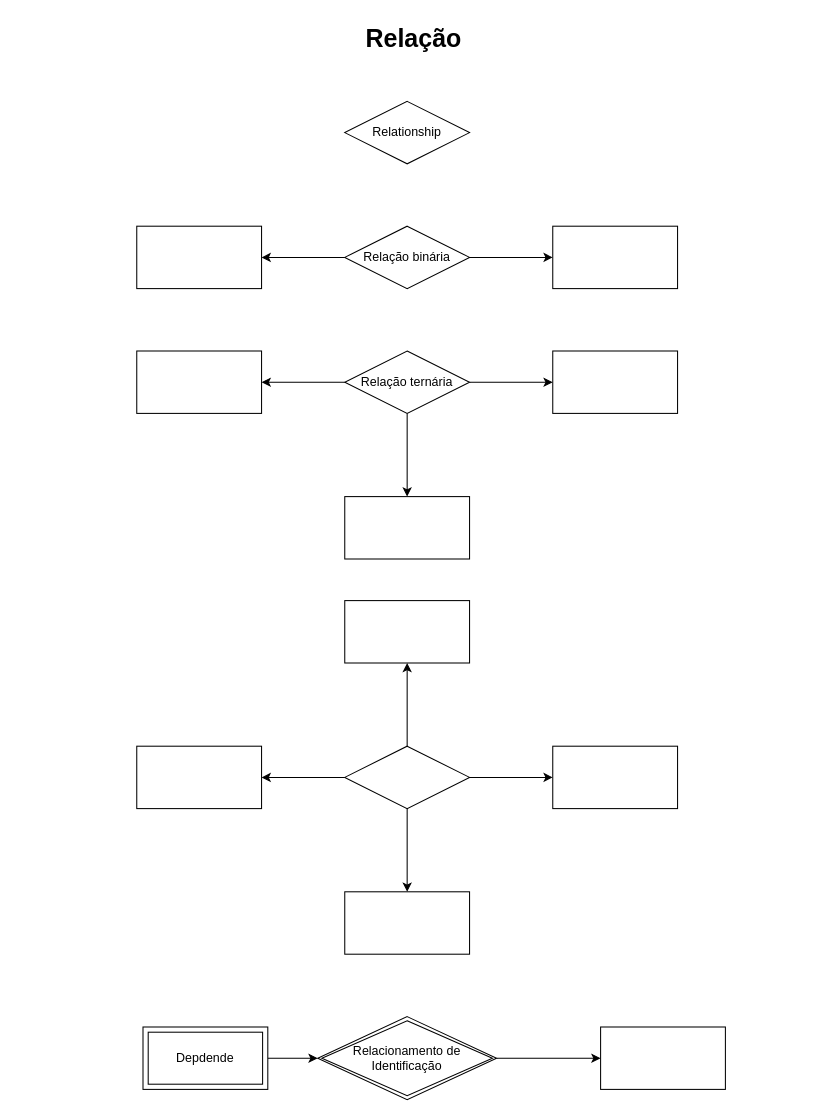
Image size: 826x1118. Some labels were removed from this diagram. Here are the shapes that lost their labels. From the top down, the box of each, then its label:
(344, 745, 470, 809): Relação n-ária
(600, 1026, 725, 1089): Proprietário
